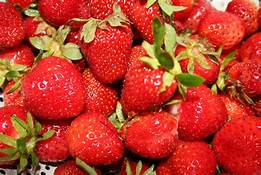Fresa: (15, 53, 89, 125), (118, 51, 180, 121), (78, 16, 135, 88), (64, 107, 127, 171), (172, 33, 224, 88)
